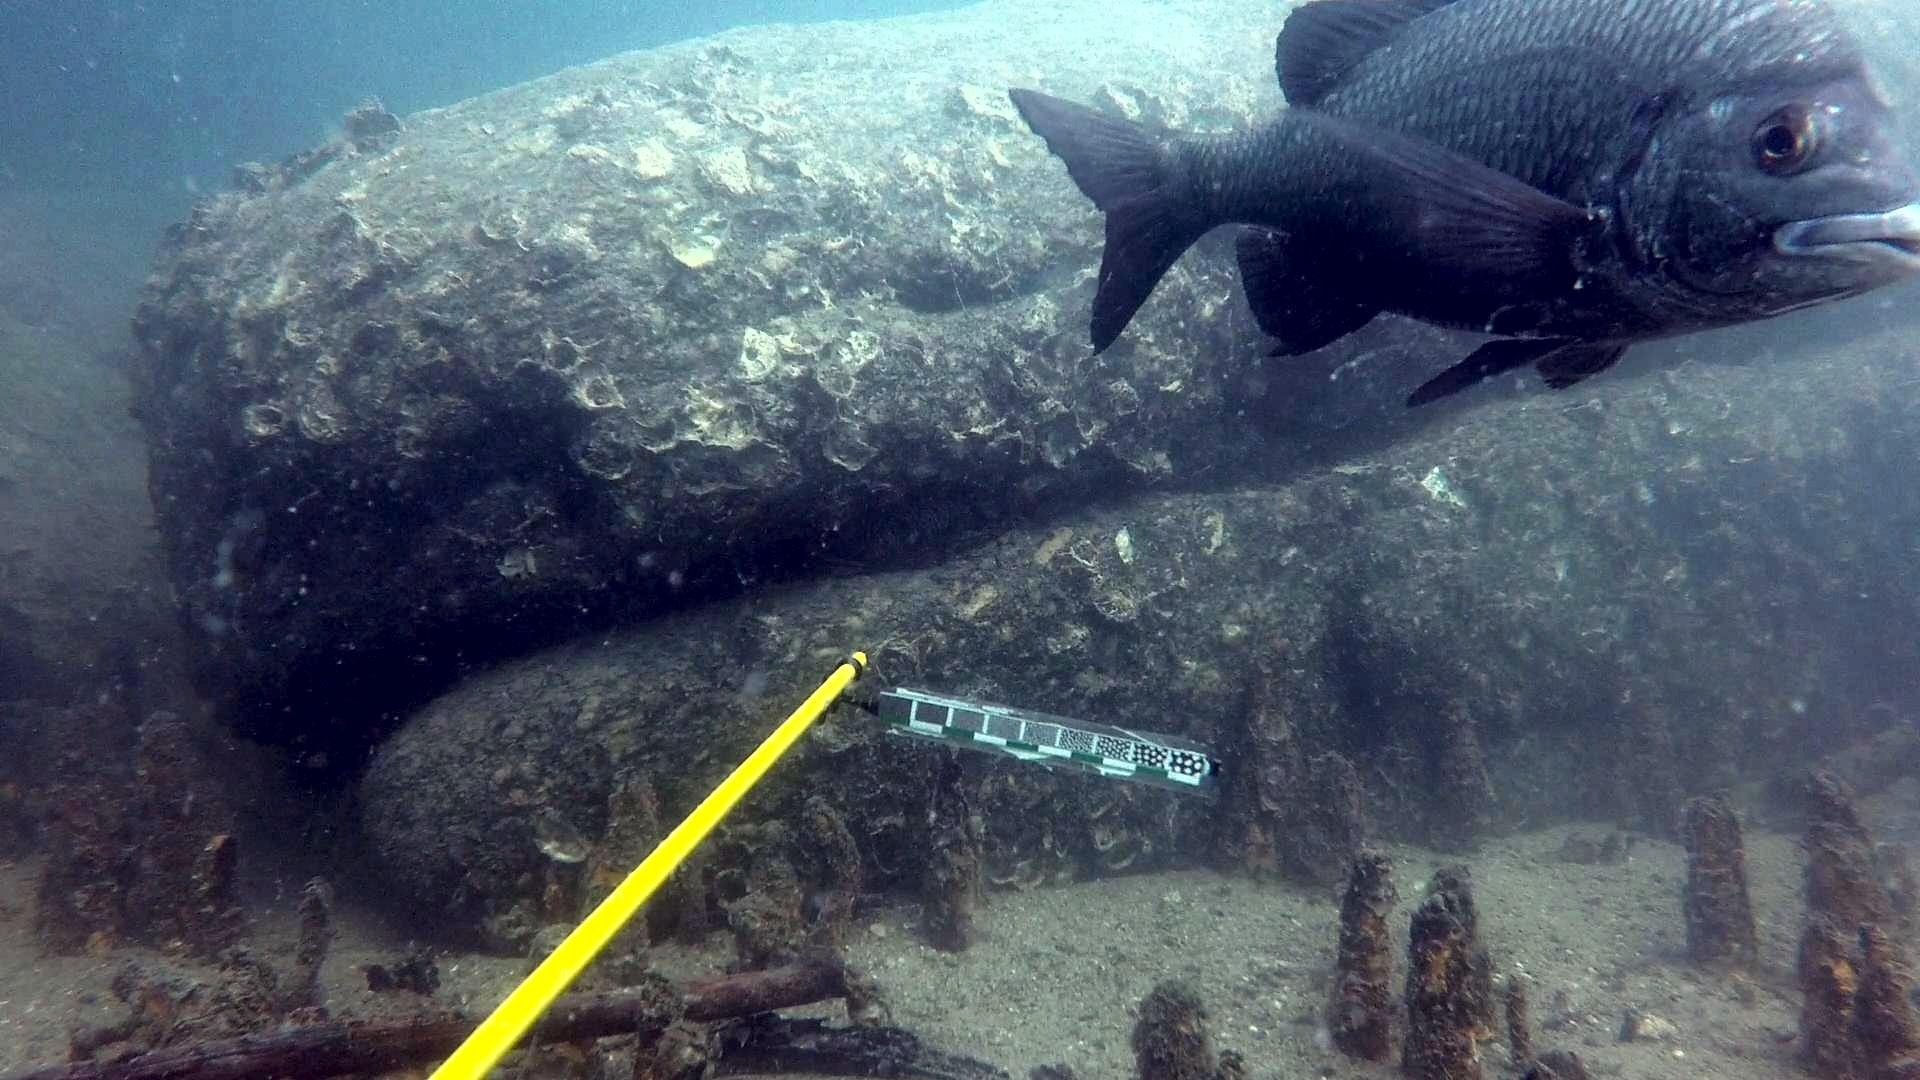acanthopagrus palmaris: (999, 0, 1918, 411)
